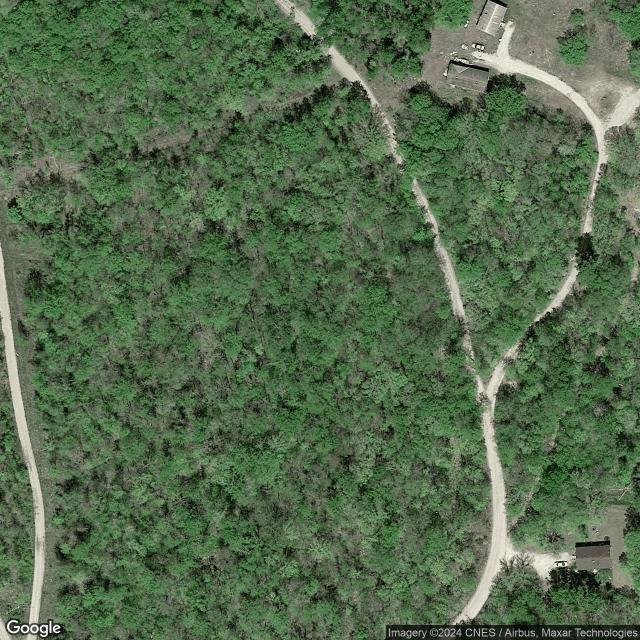Propane: (463, 19, 470, 29)
